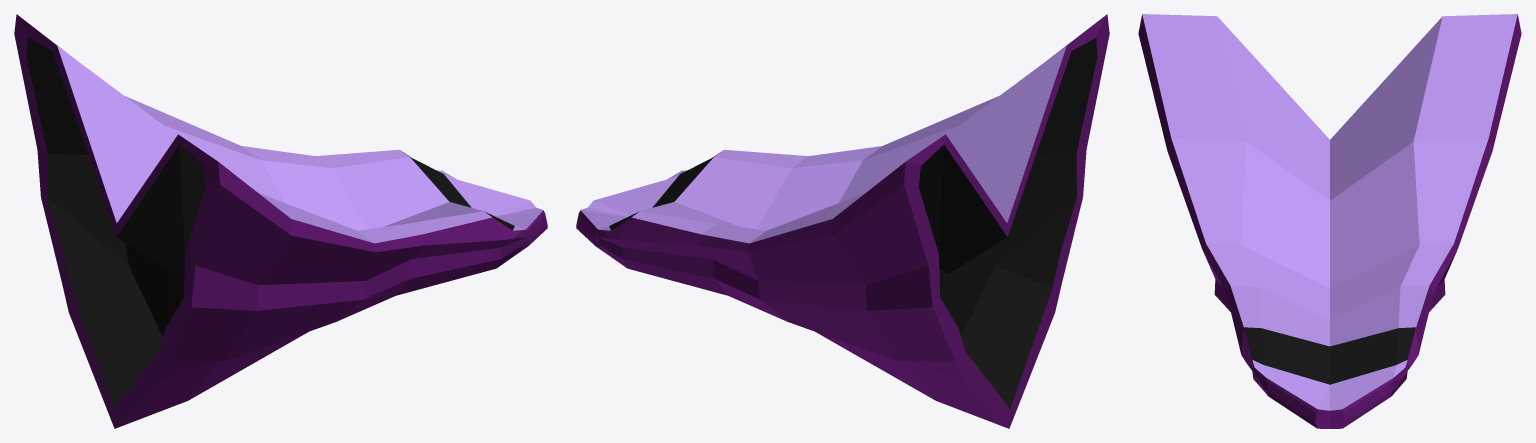
File: enemyship.fbx
The picture shows the model from 3 angles, left to right: view 1: azimuth 30°, elevation 25°; view 2: azimuth 150°, elevation 25°; view 3: azimuth 270°, elevation 25°; orthographic projection. The views are drawn at different scales.
Parts seen in each view (by area): view 1: Cube.001; view 2: Cube.001; view 3: Cube.001.
Part boxes in pixels (box(x1,y1,x2,y2)): Cube.001: box(14, 14, 547, 428); Cube.001: box(576, 14, 1109, 428); Cube.001: box(1138, 14, 1521, 428).
Size of the model in its own units: 400 by 305 by 334.
